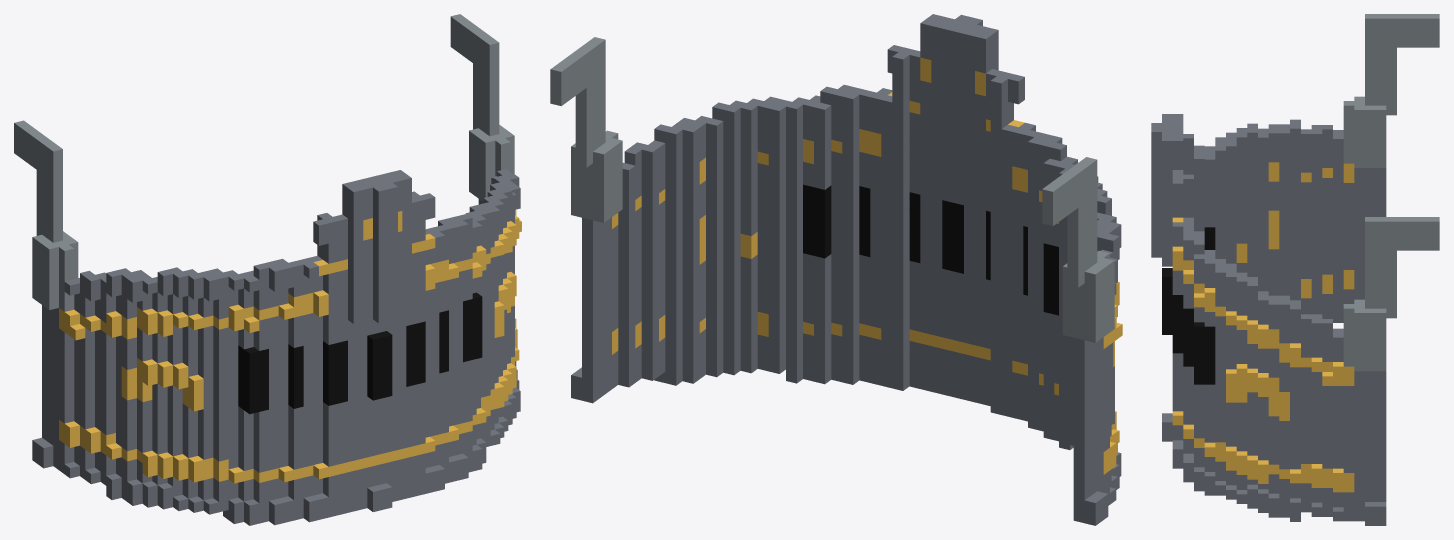
The model's file is ch_steel_facemask.glb.
3 views of the same model, side by side, from view 1: azimuth 30°, elevation 25°; view 2: azimuth 150°, elevation 25°; view 3: azimuth 270°, elevation 25° (orthographic). The views are drawn at different scales.
Visible parts, largest first — view 1: ch_steel_facemask:compound; view 2: ch_steel_facemask:compound; view 3: ch_steel_facemask:compound.
Part boxes in pixels (bbox=[...]): ch_steel_facemask:compound: bbox=[14, 14, 521, 525]; ch_steel_facemask:compound: bbox=[550, 14, 1122, 525]; ch_steel_facemask:compound: bbox=[1151, 14, 1439, 525].
Size of the model in its own units: 0.192 by 0.132 by 0.108.
